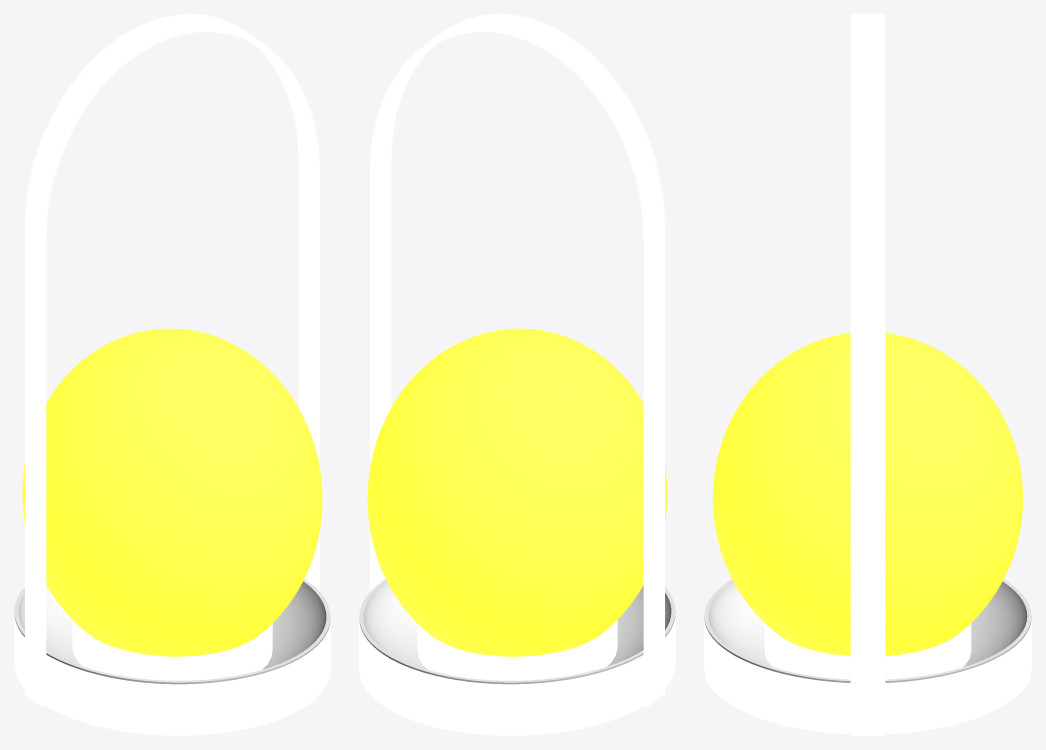
Rendered from lamp.glb.
3 views of the same model, side by side, from view 1: azimuth 30°, elevation 25°; view 2: azimuth 150°, elevation 25°; view 3: azimuth 270°, elevation 25° (orthographic).
Parts seen in each view (by area): view 1: Cam, Tutamaç, Dış_Sıvama, İç_Sıvama, Cam_Arkası; view 2: Cam, Tutamaç, Dış_Sıvama, İç_Sıvama, Cam_Arkası; view 3: Cam, Tutamaç, Dış_Sıvama, İç_Sıvama, Cam_Arkası, Cylinder.
Part boxes in pixels (x1,y1,x2,y2): Cam: (22,328,322,656); Tutamaç: (25,14,319,706); Dış_Sıvama: (14,614,330,735); İç_Sıvama: (14,579,330,684); Cam_Arkası: (72,620,272,680); Cam: (367,328,667,656); Tutamaç: (370,14,664,706); Dış_Sıvama: (359,614,675,735); İç_Sıvama: (359,579,675,684); Cam_Arkası: (417,620,617,680); Cam: (712,333,1023,656); Tutamaç: (850,14,885,735); Dış_Sıvama: (704,617,1031,734); İç_Sıvama: (704,579,1031,682); Cam_Arkası: (764,623,971,679); Cylinder: (855,698,880,726).
Bounding box in the file's own units: 1.49 × 3.15 × 1.45.
